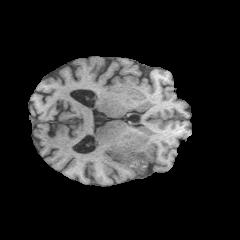glioma: (103, 146, 155, 175)
